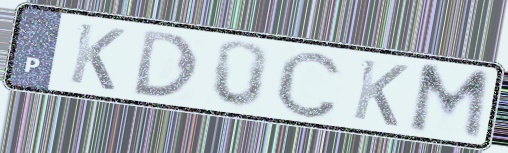0: (210, 39, 272, 111)
C: (272, 48, 345, 121)
D: (131, 27, 201, 100)
K: (348, 56, 412, 130), (65, 20, 128, 94)
M: (404, 61, 494, 144)
